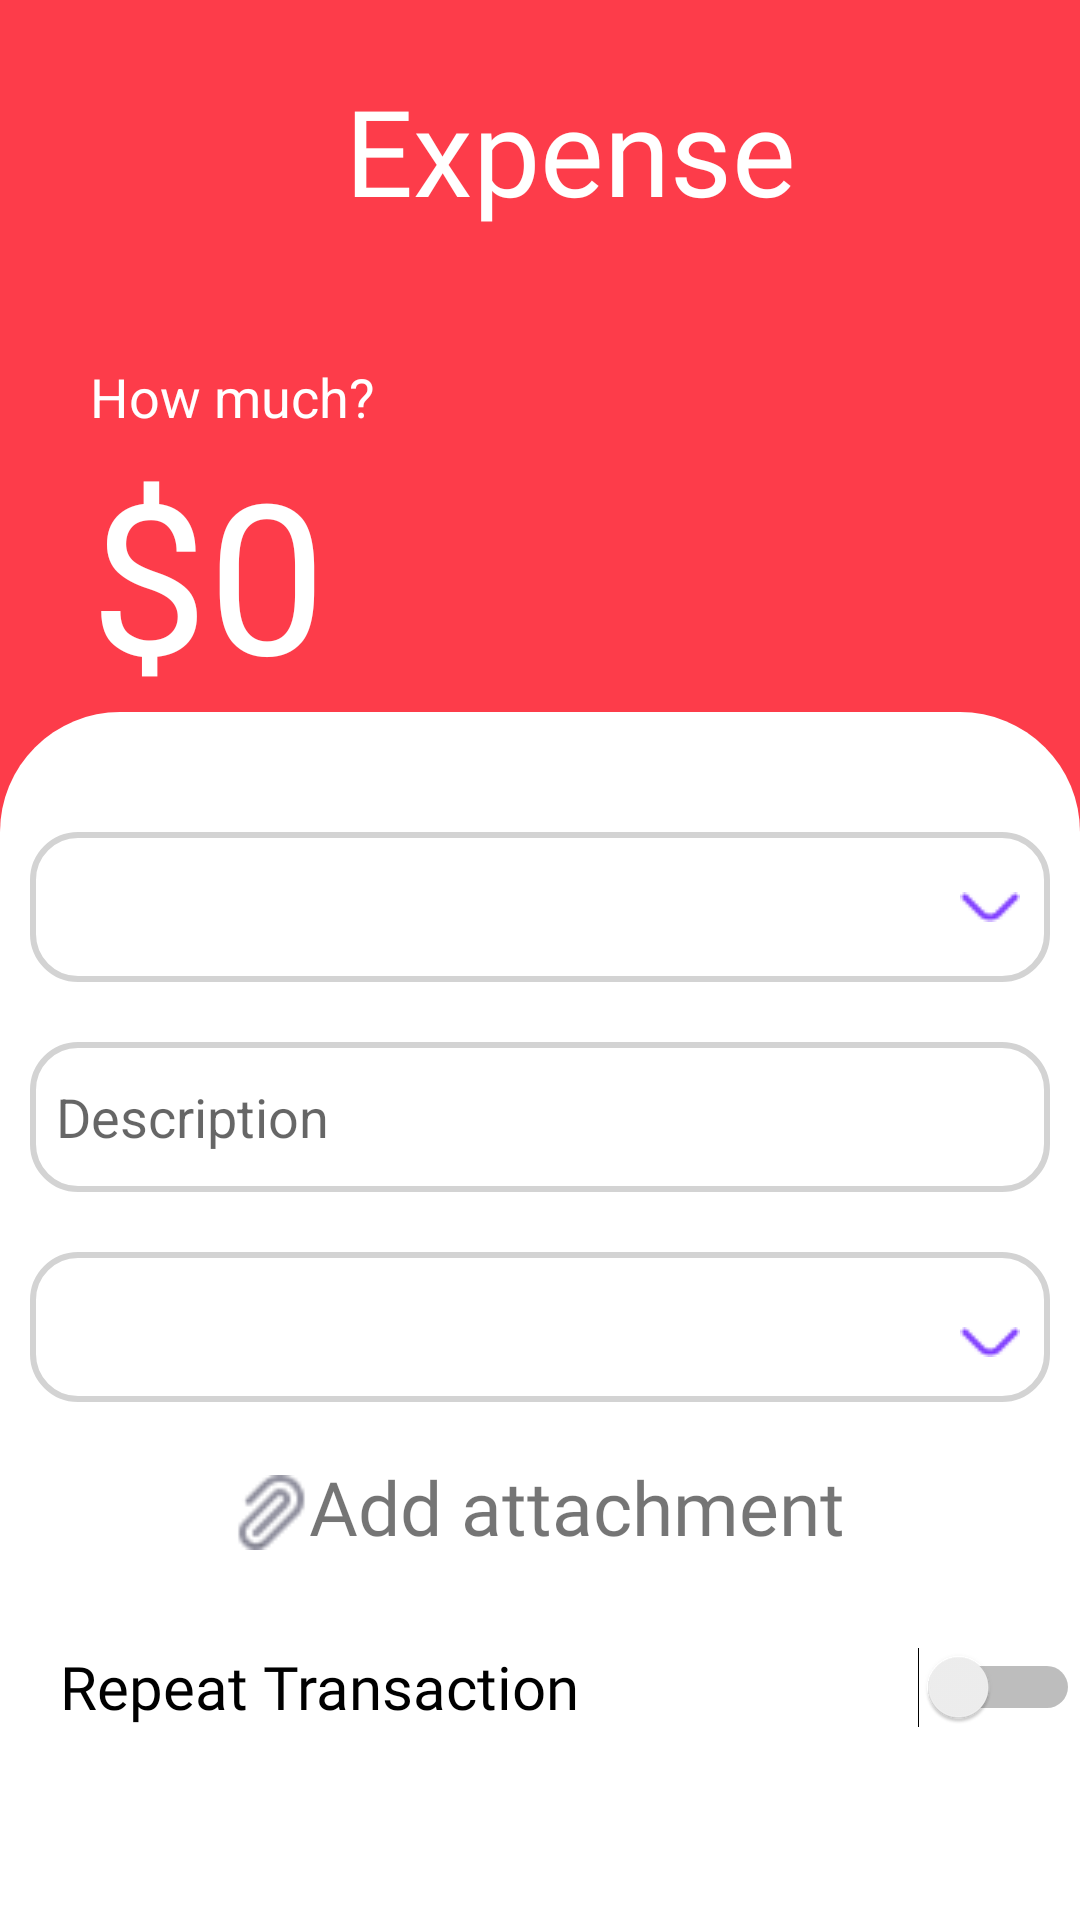

Named icons in this screenshot (1080x1920) and their centers, point (x, y):
arrow down: point (990, 907), point (990, 1342)
